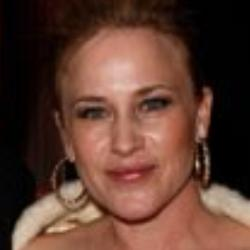face: (17, 5, 235, 227)
